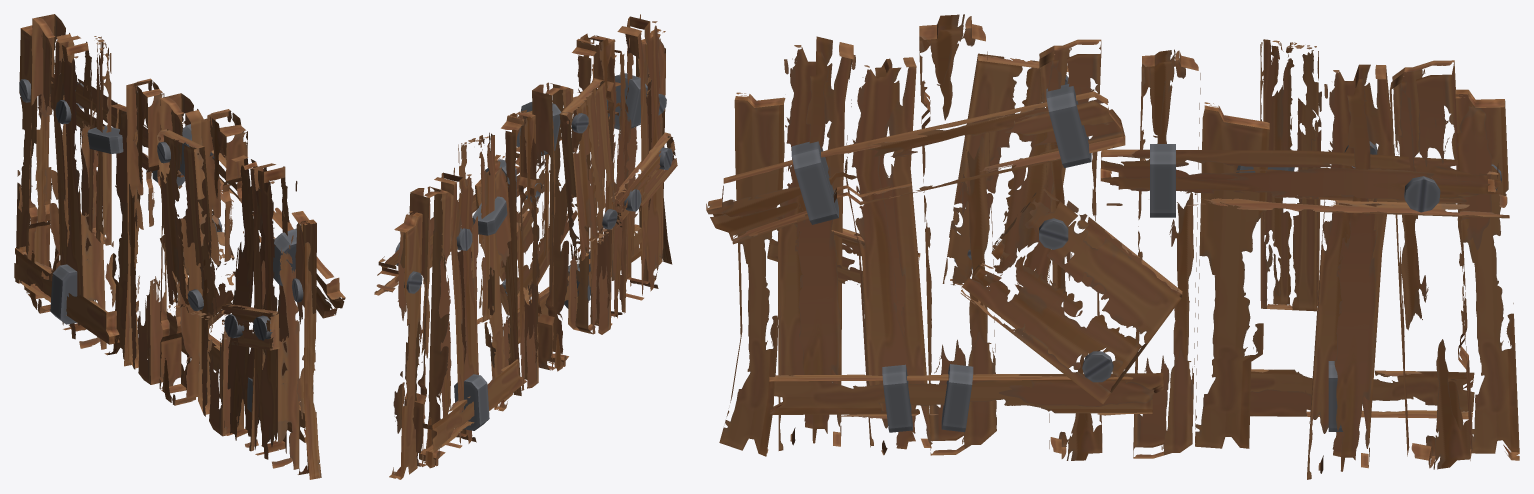
Rendered from hvs_plank_long.fbx.
3 renders of one model, left to right at view 1: azimuth 30°, elevation 25°; view 2: azimuth 150°, elevation 25°; view 3: azimuth 270°, elevation 25°, orthographic. The views are drawn at different scales.
Parts seen in each view (by area): view 1: polySurface114; view 2: polySurface114; view 3: polySurface114.
Boxes of the visible parts, x1,y1,x2,y2 form: polySurface114: [14, 14, 345, 479]; polySurface114: [374, 14, 677, 479]; polySurface114: [706, 14, 1519, 479].
Size of the model in its own units: 1.39 by 6.48 by 10.57.
